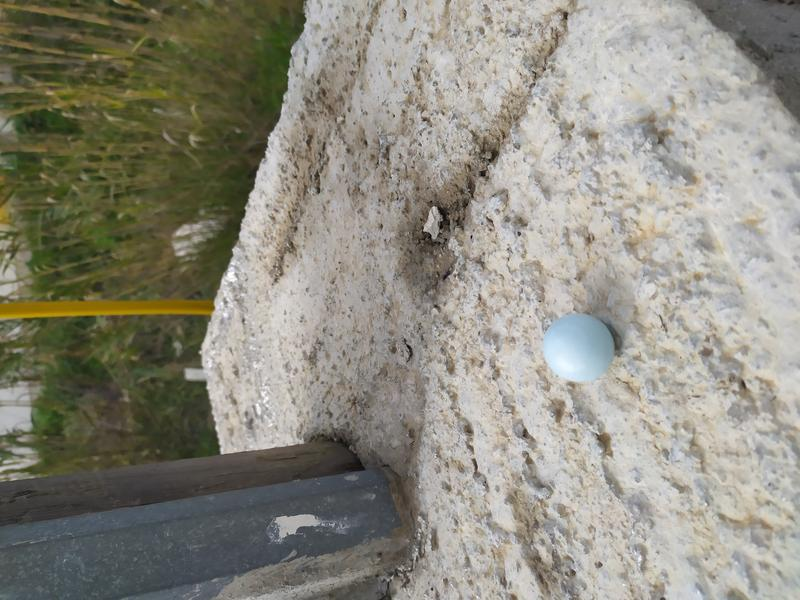Warning: (540, 311, 618, 385)
